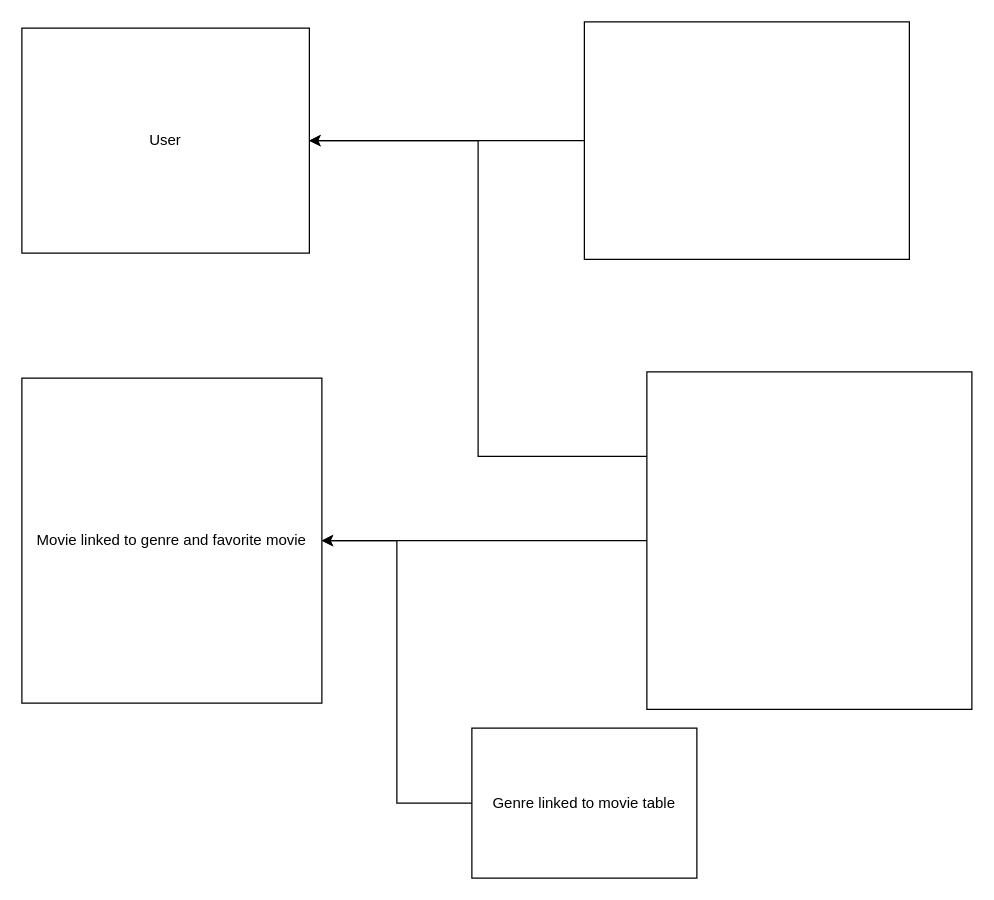
The diagram is 994 pixels wide and 900 high, and some of its shapes have lost their labels. Each missing label, with the centre of its shape:
"Favorite movie Linked to User table and Movie table by ID" belongs at pixel 809 540.
"Review Linked to user and Movie by ID and Username" belongs at pixel 746 140.
